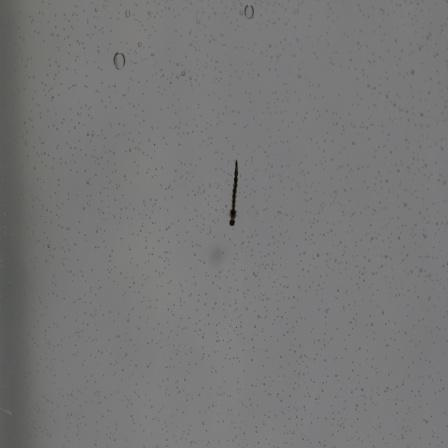Jentik-Nyamuk: (217, 154, 249, 232)
